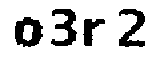2: (117, 5, 150, 53)
3: (49, 3, 78, 52)
o: (11, 16, 44, 52)
r: (82, 17, 108, 51)
